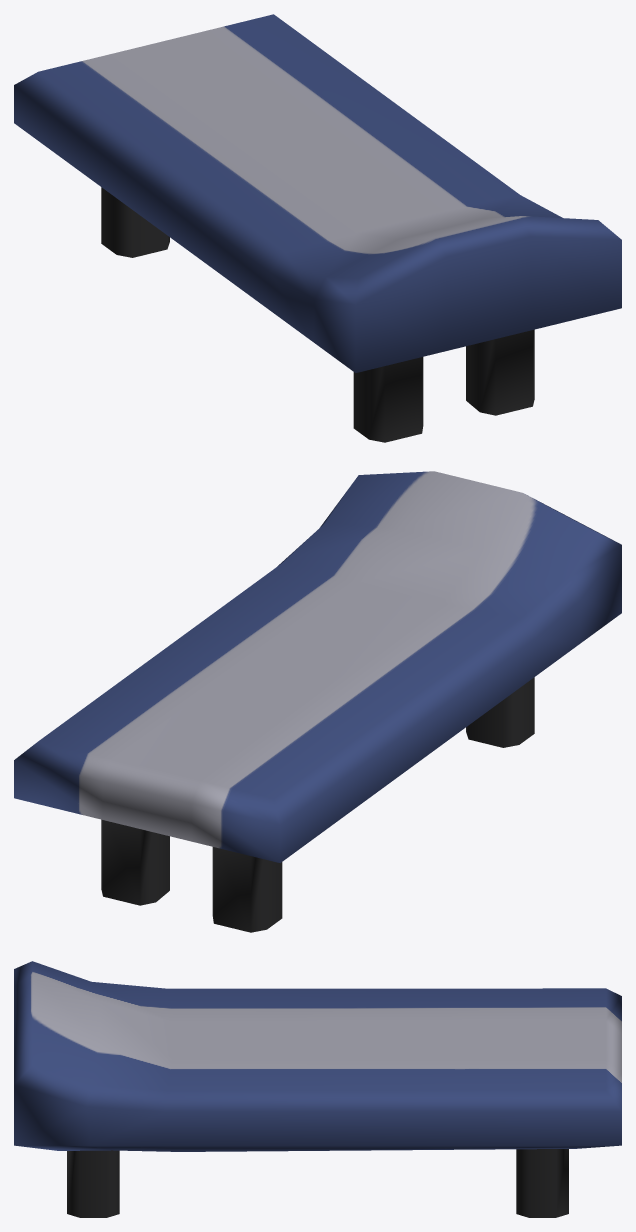
The model's file is NurseBed.fbx.
3 renders of one model, top to bottom at view 1: azimuth 30°, elevation 25°; view 2: azimuth 150°, elevation 25°; view 3: azimuth 270°, elevation 25°, orthographic. The views are drawn at different scales.
Parts seen in each view (by area): view 1: pCube1; view 2: pCube1; view 3: pCube1.
Boxes of the visible parts, x1,y1,x2,y2 form: pCube1: (14, 14, 621, 442); pCube1: (14, 471, 621, 932); pCube1: (14, 961, 621, 1217).
Bounding box in the file's own units: 28.24 × 21.5 × 62.75.
